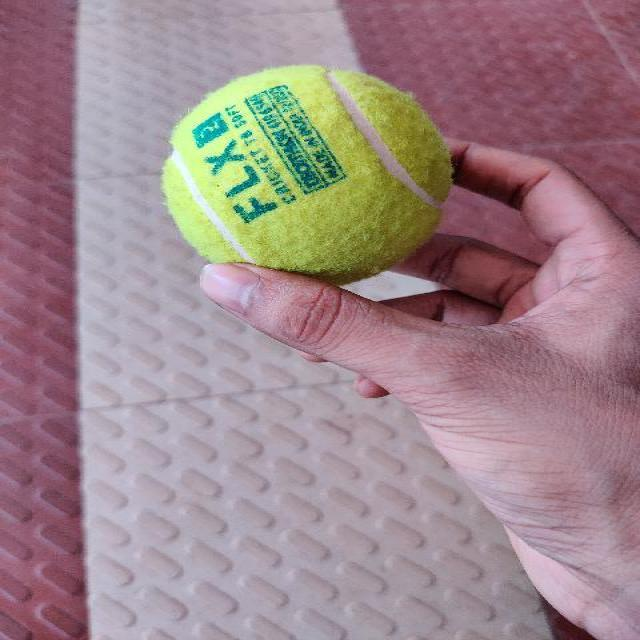tennis-ball: (160, 63, 452, 261)
